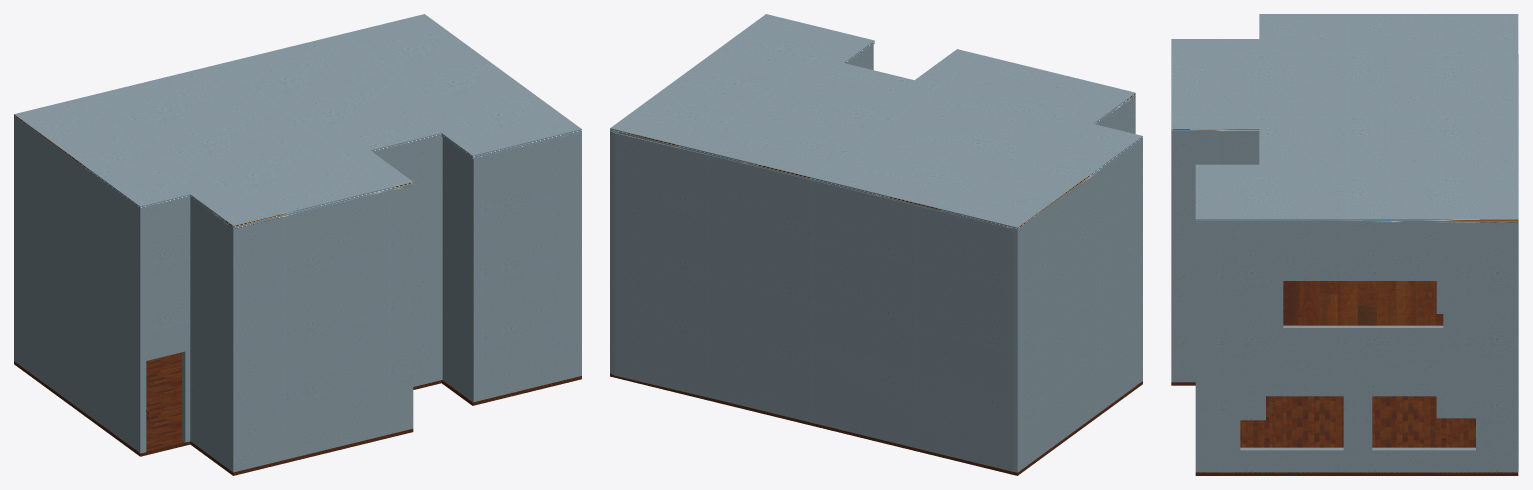
File: Apartment_3-26-16_All_fixed_up(wider_hallway).FBX
3 views of the same model, side by side, from view 1: azimuth 30°, elevation 25°; view 2: azimuth 150°, elevation 25°; view 3: azimuth 270°, elevation 25° (orthographic). The views are drawn at different scales.
Visible parts, largest first — view 1: Walls, Ceiling 2, Floor 1; view 2: Walls, Ceiling 2, Floor 1; view 3: Walls, Ceiling 2, Floor 1, Floor 2.
Boxes of the visible parts, x1,y1,x2,y2 form: Walls: [14, 117, 581, 472]; Ceiling 2: [14, 14, 581, 228]; Floor 1: [14, 352, 581, 475]; Walls: [610, 45, 1142, 472]; Ceiling 2: [610, 14, 1142, 230]; Floor 1: [610, 373, 1142, 475]; Walls: [1171, 54, 1518, 472]; Ceiling 2: [1171, 14, 1518, 222]; Floor 1: [1171, 382, 1518, 475]; Floor 2: [1283, 281, 1443, 325].
Size of the model in its own units: 377 by 220 by 269.
